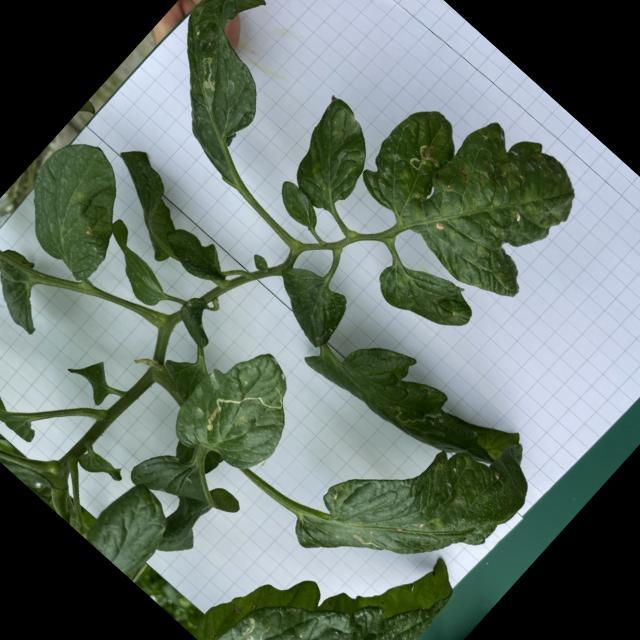Tomato healthy leaf: (80, 476, 182, 580)
Tomato target spot leaf: (284, 366, 553, 640), (346, 63, 602, 317), (187, 465, 466, 640), (300, 292, 524, 507), (119, 0, 342, 190), (158, 329, 322, 494)
